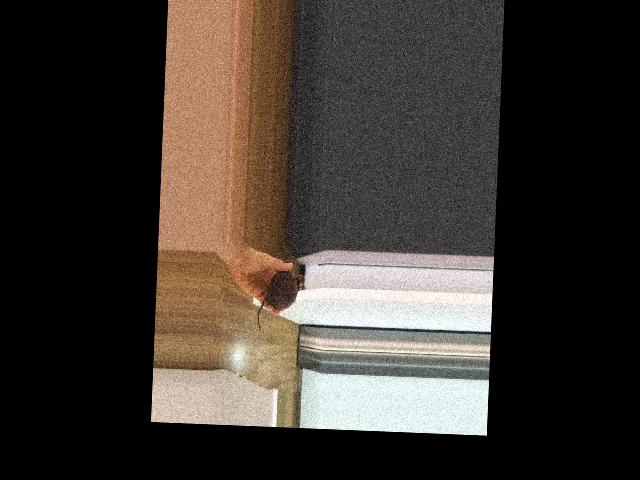beet: (256, 270, 300, 332)
